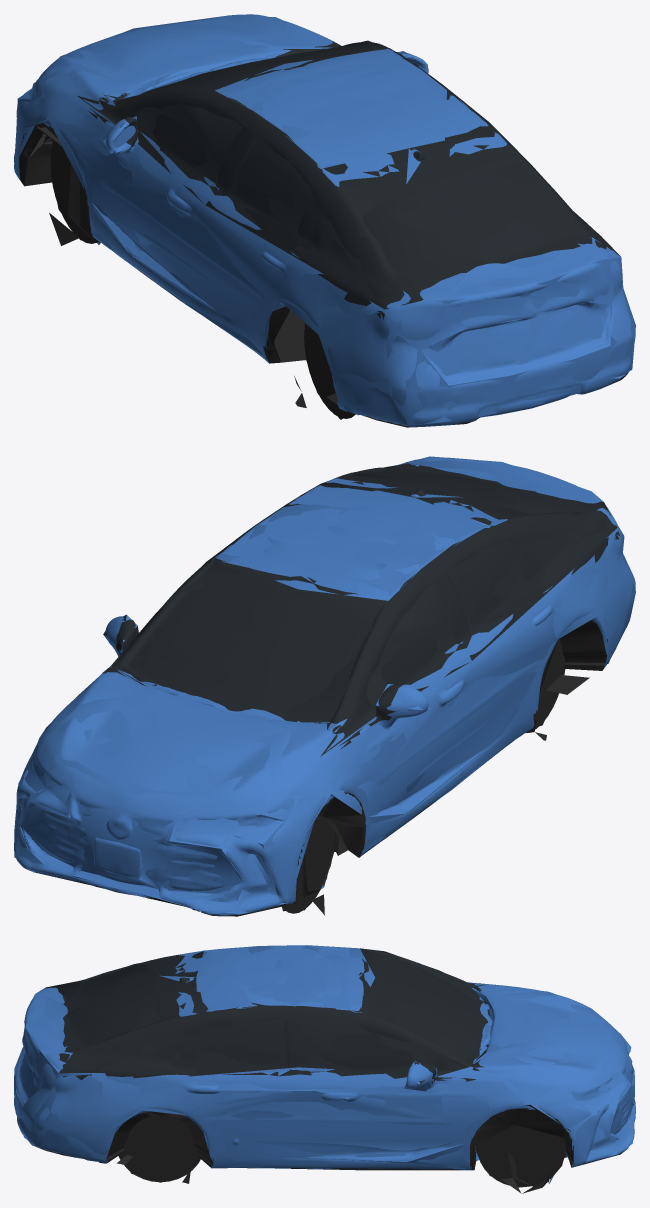
Rendered from toyota-avalon.glb.
3 views of the same model, one above another, from view 1: azimuth 30°, elevation 25°; view 2: azimuth 150°, elevation 25°; view 3: azimuth 270°, elevation 25° (orthographic). The views are drawn at different scales.
Visible parts, largest first — view 1: body, far; view 2: body, far; view 3: body, far.
Part boxes in pixels (left/top/right/bottom): body: left=14, top=14, right=635, bottom=427; far: left=14, top=16, right=635, bottom=425; body: left=14, top=457, right=635, bottom=916; far: left=14, top=456, right=635, bottom=914; body: left=14, top=945, right=635, bottom=1193; far: left=14, top=945, right=634, bottom=1187.
Size of the model in its own units: 2.22 by 1.54 by 5.02.
